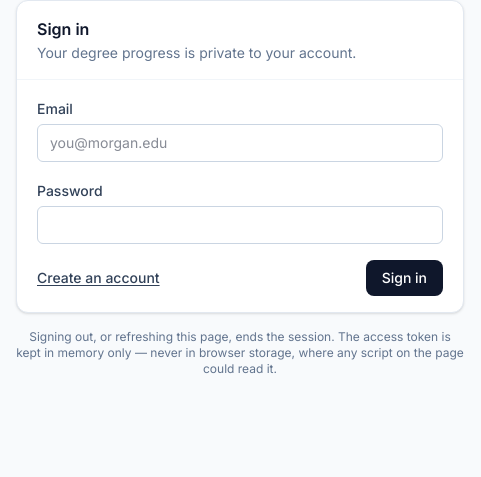
Test: SignIn › shows the error message when sign-in fails
The width and height of the screenshot is (481, 477).
Type "student@morgan.edu" into the field labelled "Email" at point(240, 143), box [37, 124, 443, 162]
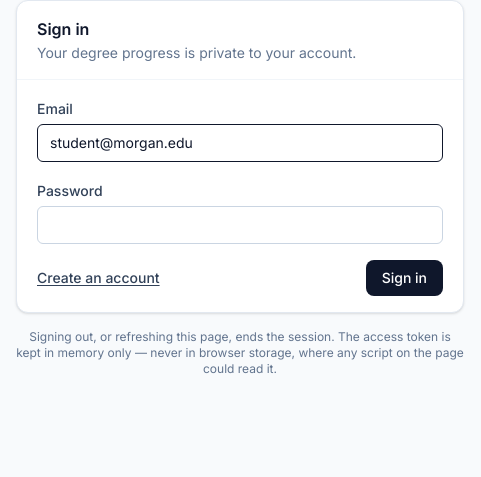
Type "wrong-password" into the password field labelled "Password" at point(240, 225), box [37, 206, 443, 244]
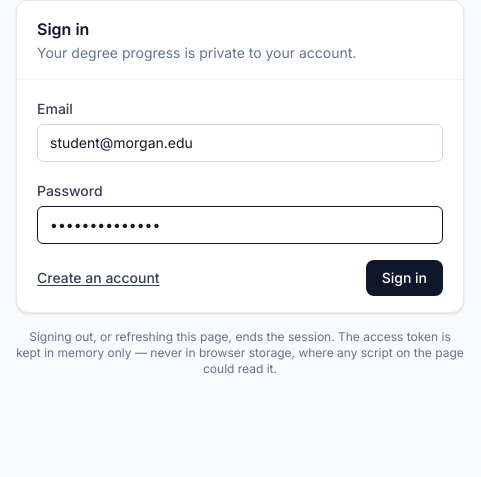
Click the button "Sign in" at point(404, 278), box [366, 260, 443, 296]
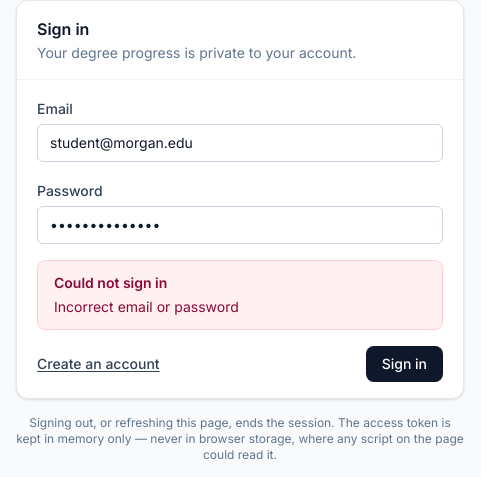
Expected: the button "Sign in" is enabled, [366, 346, 443, 382]
Expected: the text "Incorrect email or password" is shown, [54, 298, 239, 315]
Expected: the text "Could not sign in" is shown, [54, 274, 167, 291]
